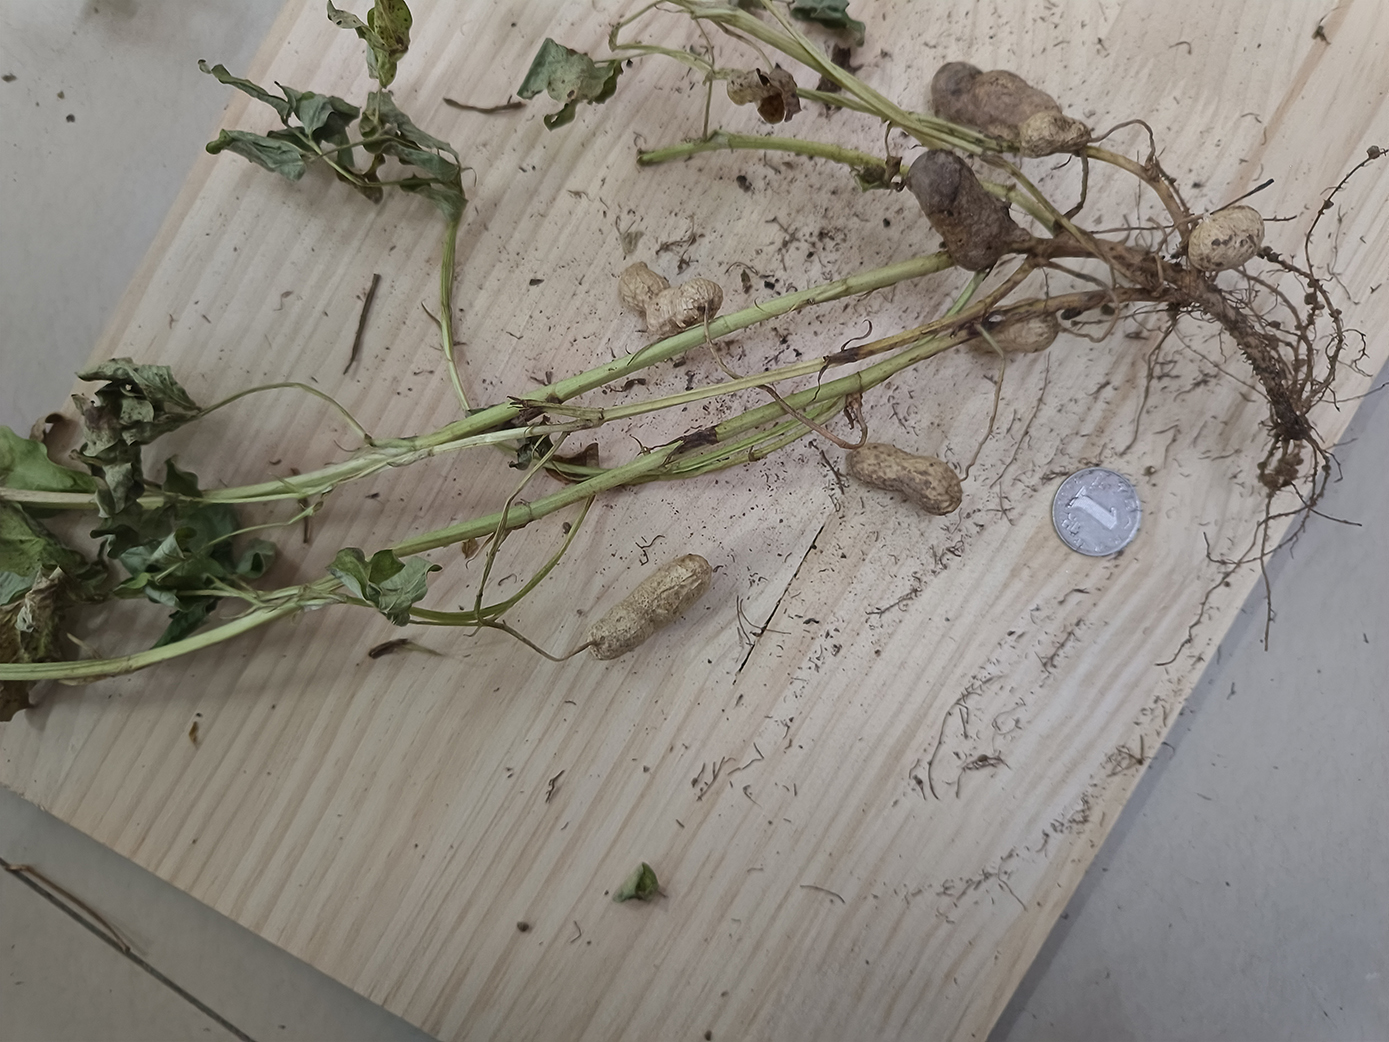h: (588, 554, 713, 661), (850, 443, 962, 513), (618, 262, 722, 336), (1187, 202, 1265, 273), (973, 306, 1060, 357), (1025, 115, 1088, 154)
l: (907, 148, 1007, 274), (930, 58, 1058, 144)
